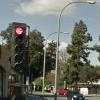Traffic light: (9, 18, 36, 86)
